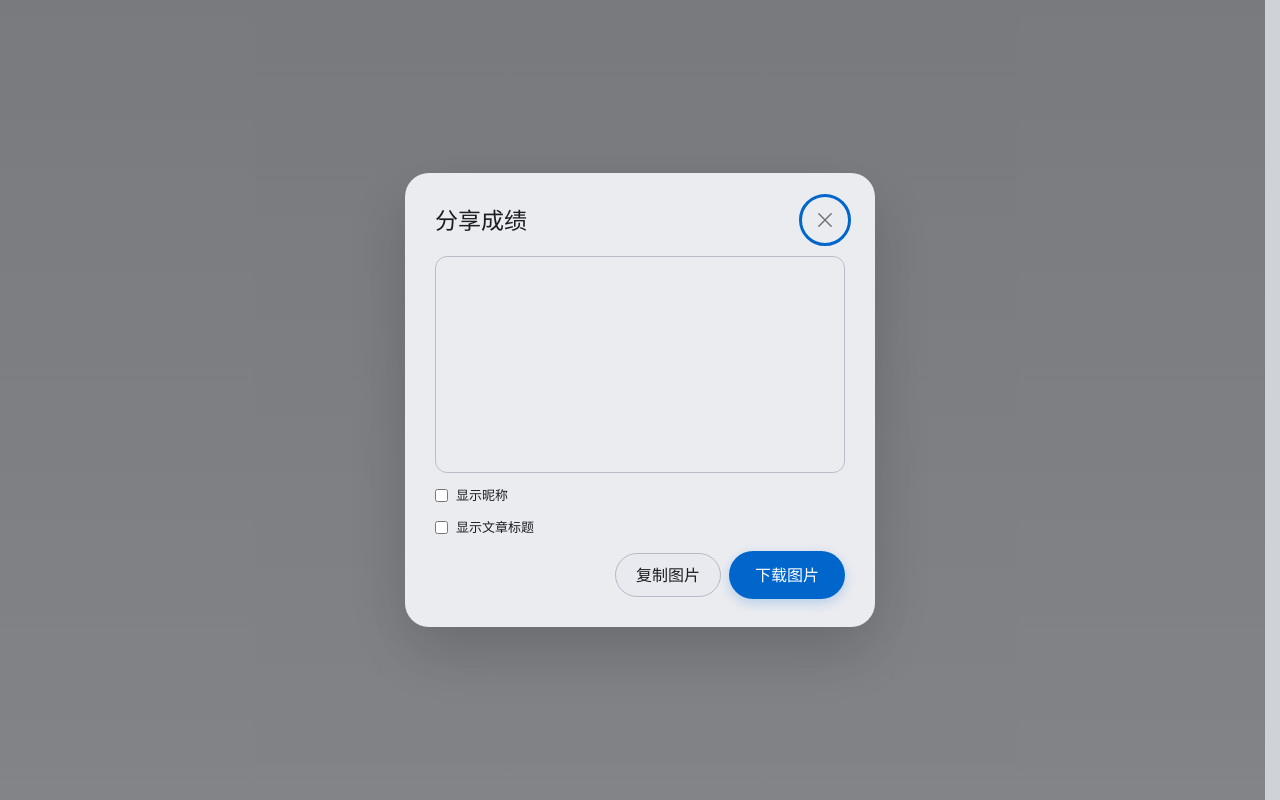
it: keeps optional identity fields hidden by default and leaves download available if copying is unsupported
Expected: the checkbox labelled "显示昵称" is not checked, [435,489,448,502]
Expected: the checkbox labelled "显示文章标题" is not checked, [435,521,448,534]
Click the button "复制图片".
click(668, 575)  # box [615,553,721,597]
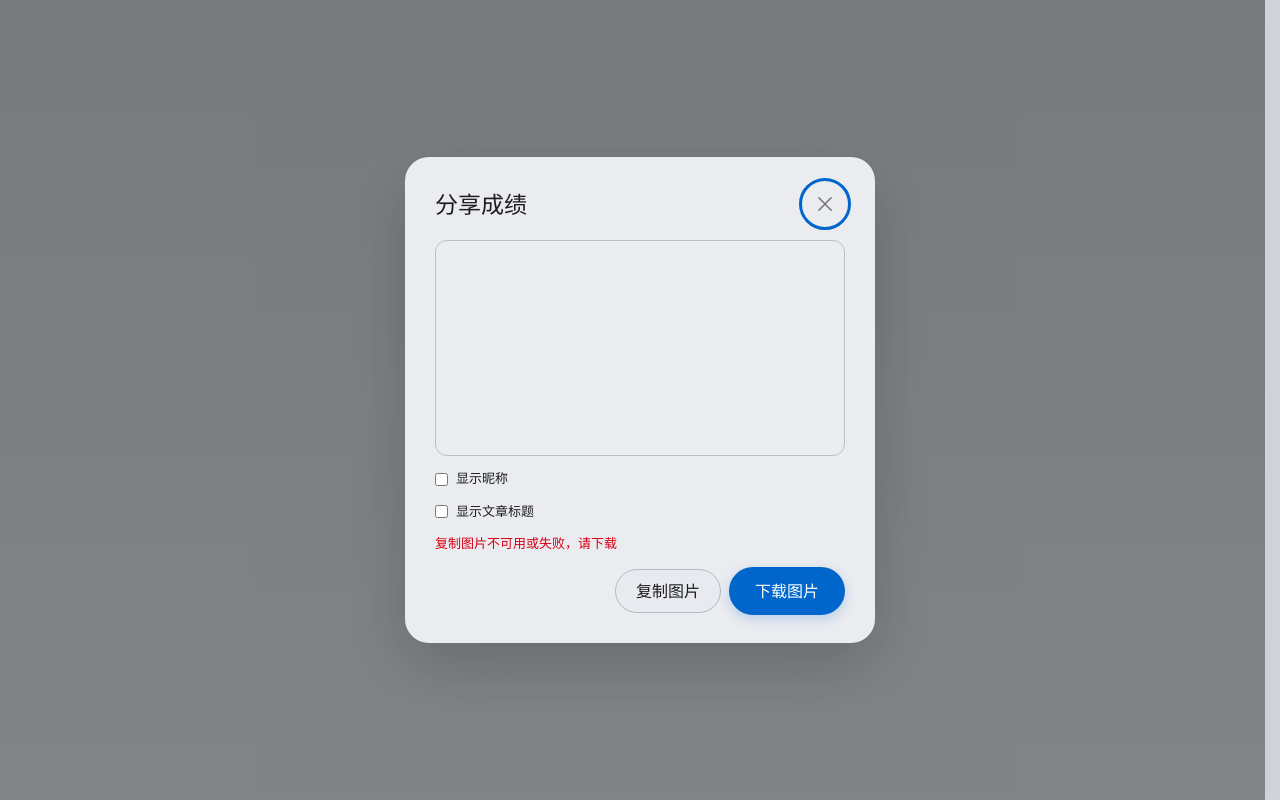
Expected: the button "下载图片" is enabled, [729,567,845,615]
Result: the message shows "下载" at [435,534,617,552]
